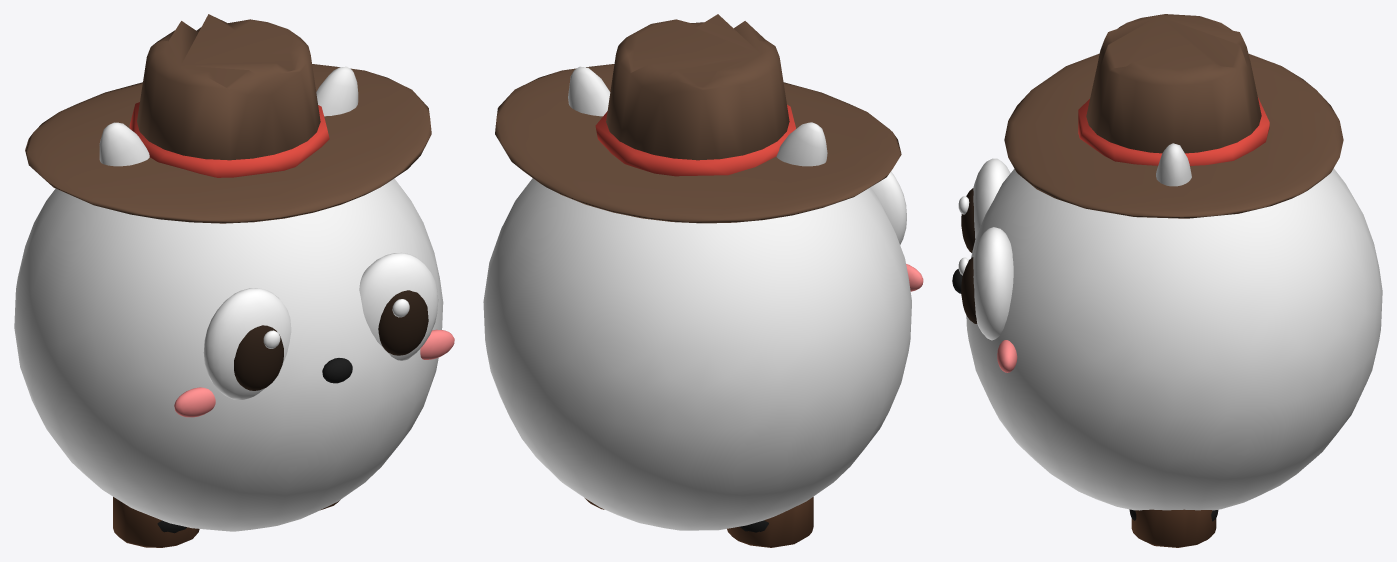
The model's file is GoldPanPanda.fbx.
3 views of the same model, side by side, from view 1: azimuth 30°, elevation 25°; view 2: azimuth 150°, elevation 25°; view 3: azimuth 270°, elevation 25° (orthographic). The views are drawn at different scales.
Visible parts, largest first — view 1: Body, Hat, EyeWhite, Ink, HatBand, Wood, Cheek, Dark; view 2: Body, Hat, HatBand, Wood, EyeWhite; view 3: Body, Hat, EyeWhite, HatBand, Wood, Ink, Cheek.
Boxes of the visible parts, <box> form: Body: <box>14,66,443,531</box>; Hat: <box>25,14,431,223</box>; EyeWhite: <box>203,252,438,399</box>; Ink: <box>234,290,428,390</box>; HatBand: <box>129,102,329,177</box>; Wood: <box>113,497,339,547</box>; Cheek: <box>174,329,454,417</box>; Dark: <box>157,358,352,533</box>; Body: <box>483,66,911,530</box>; Hat: <box>495,14,901,223</box>; HatBand: <box>595,104,795,176</box>; Wood: <box>585,497,813,547</box>; EyeWhite: <box>871,172,906,244</box>; Body: <box>966,143,1382,510</box>; Hat: <box>1004,14,1343,218</box>; EyeWhite: <box>958,158,1013,340</box>; HatBand: <box>1078,96,1269,165</box>; Wood: <box>1131,509,1216,547</box>; Ink: <box>961,188,977,323</box>; Cheek: <box>997,340,1017,372</box>.
Bounding box in the file's own units: 1.95 × 2.01 × 2.39.
